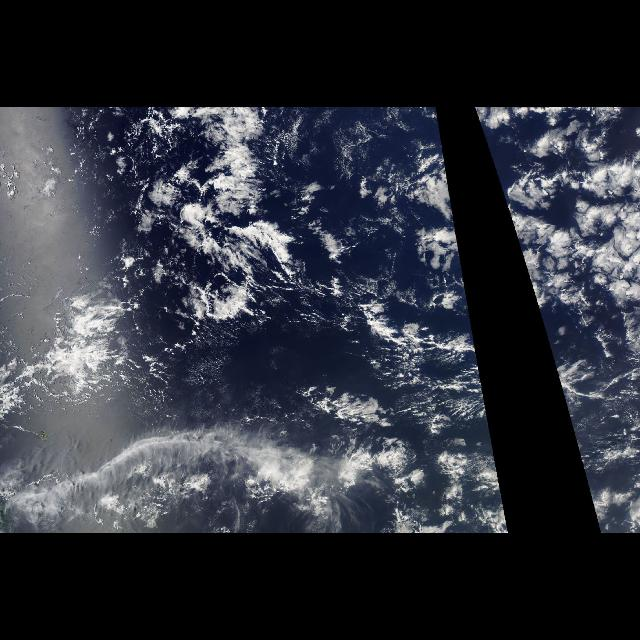Fish: (0, 422, 444, 530)
Flower: (127, 108, 475, 336), (474, 108, 640, 336)
Gravel: (19, 114, 435, 406)
